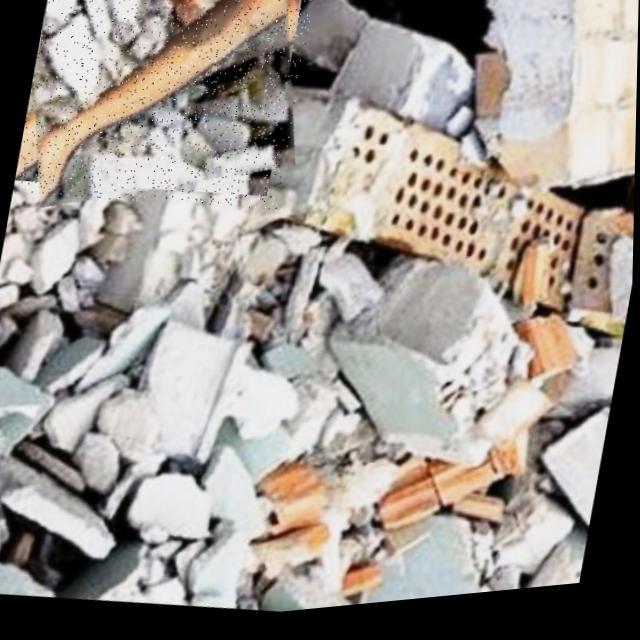Person in Rubble: (12, 0, 319, 236)
